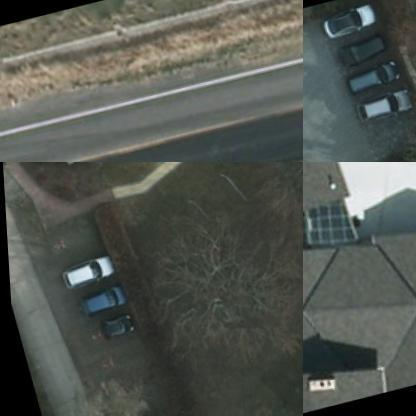car: (53, 245, 116, 286), (354, 87, 414, 126), (344, 54, 404, 93), (71, 282, 131, 320), (333, 24, 392, 62), (317, 0, 379, 34), (82, 309, 136, 339)
